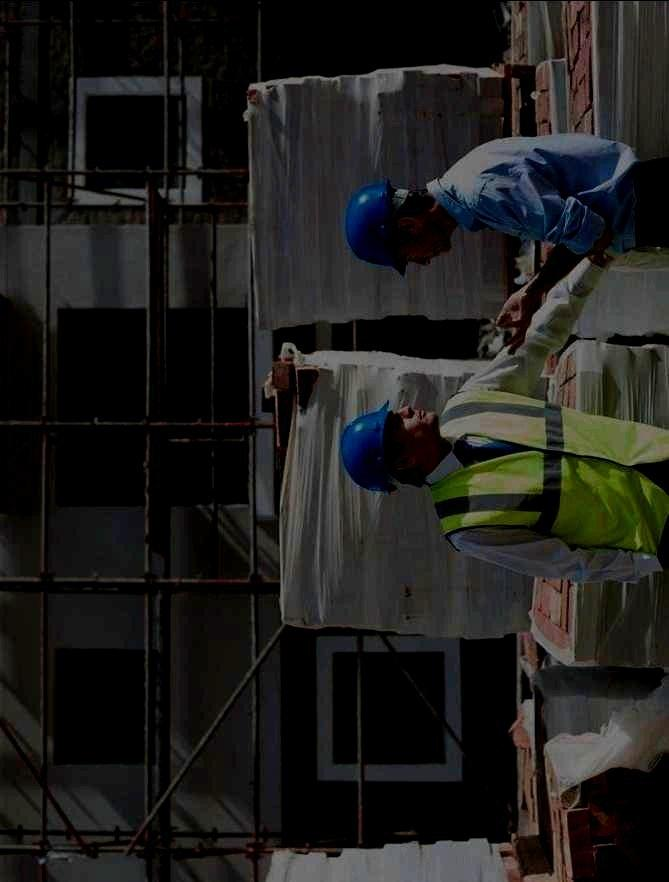helmet: (342, 176, 452, 280), (338, 399, 437, 495)
